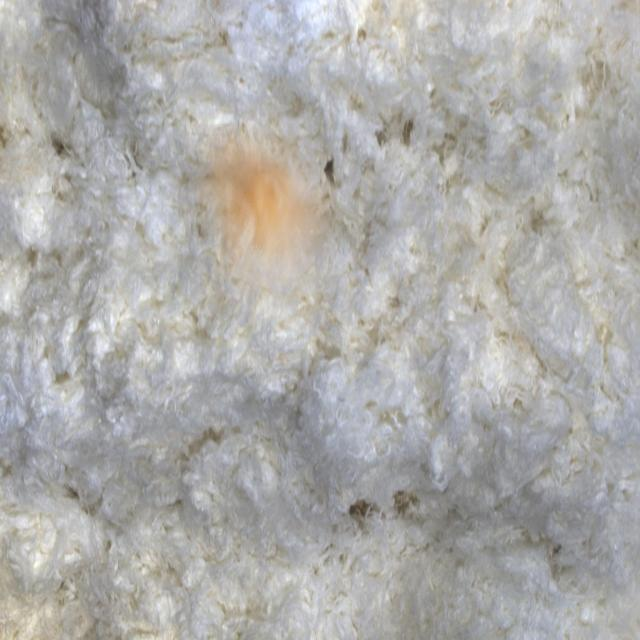dust: (178, 124, 339, 331)
